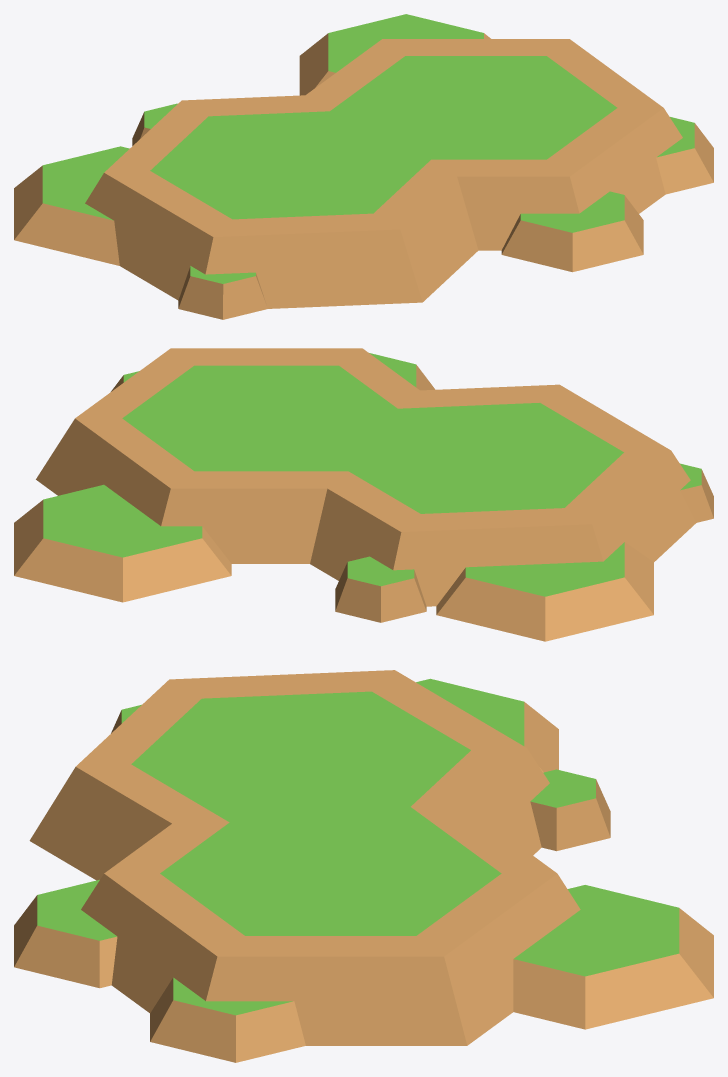
File: grass-patch.glb
The picture shows the model from 3 angles, top to bottom: view 1: azimuth 30°, elevation 25°; view 2: azimuth 150°, elevation 25°; view 3: azimuth 270°, elevation 25°; orthographic projection. The views are drawn at different scales.
Visible parts, largest first — view 1: platform_grass; view 2: platform_grass; view 3: platform_grass.
Boxes of the visible parts, x1,y1,x2,y2 form: platform_grass: (14, 14, 713, 319); platform_grass: (14, 348, 713, 641); platform_grass: (14, 670, 713, 1062).
Bounding box in the file's own units: 3.57 × 0.3302 × 2.9.
